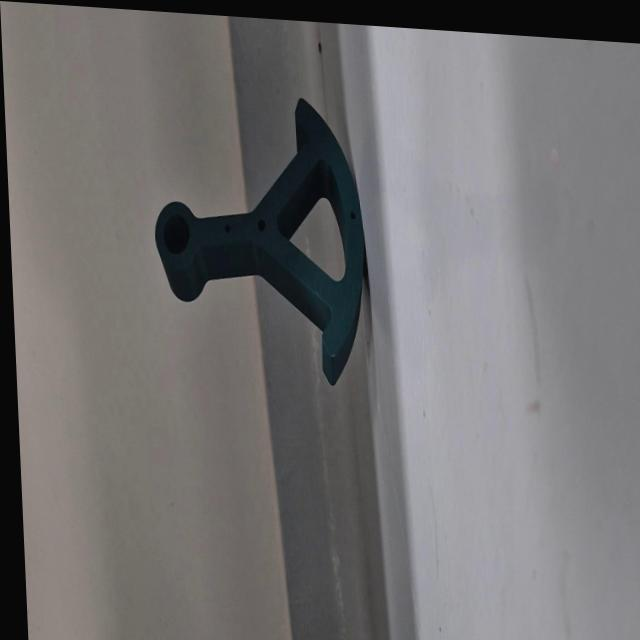haptic: (146, 84, 373, 390)
